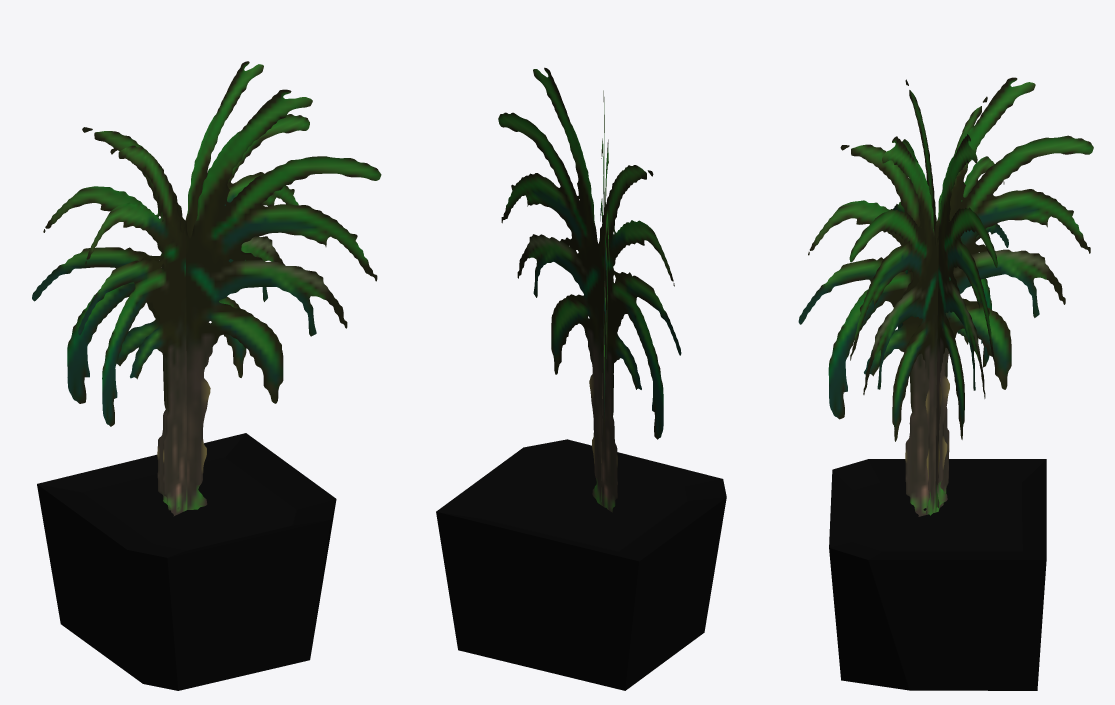
Rendered from flowerpot_02.fbx.
3 views of the same model, side by side, from view 1: azimuth 30°, elevation 25°; view 2: azimuth 150°, elevation 25°; view 3: azimuth 270°, elevation 25° (orthographic). The views are drawn at different scales.
Parts seen in each view (by area): view 1: flowerpot_02; view 2: flowerpot_02; view 3: flowerpot_02.
Boxes of the visible parts, x1,y1,x2,y2 form: flowerpot_02: [32, 61, 381, 690]; flowerpot_02: [436, 67, 726, 690]; flowerpot_02: [798, 77, 1093, 690].
Size of the model in its own units: 0.8626 by 1.56 by 0.7797.
